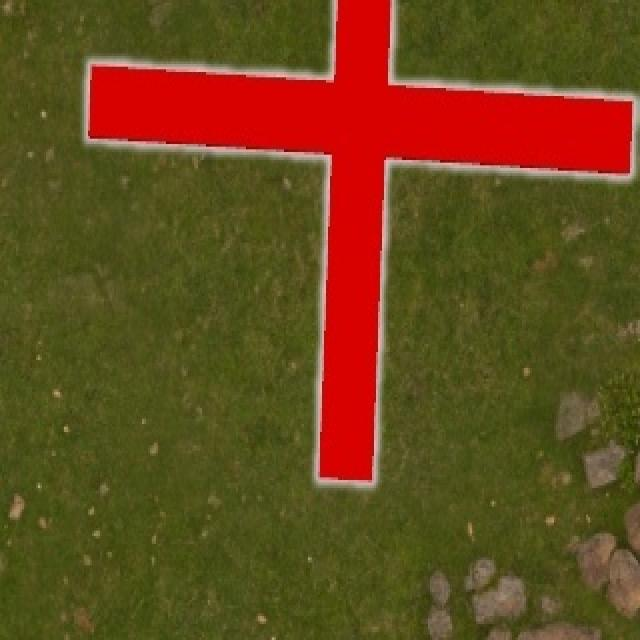x_marker: (87, 0, 633, 483)
